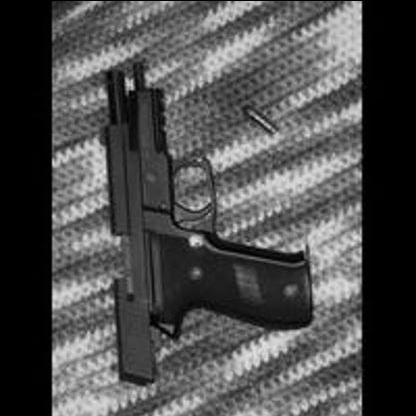weapon: (99, 54, 321, 389)
